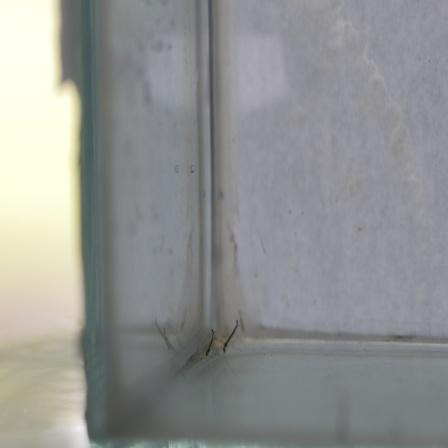Jentik-Nyamuk: (220, 317, 240, 357), (202, 326, 217, 359)
